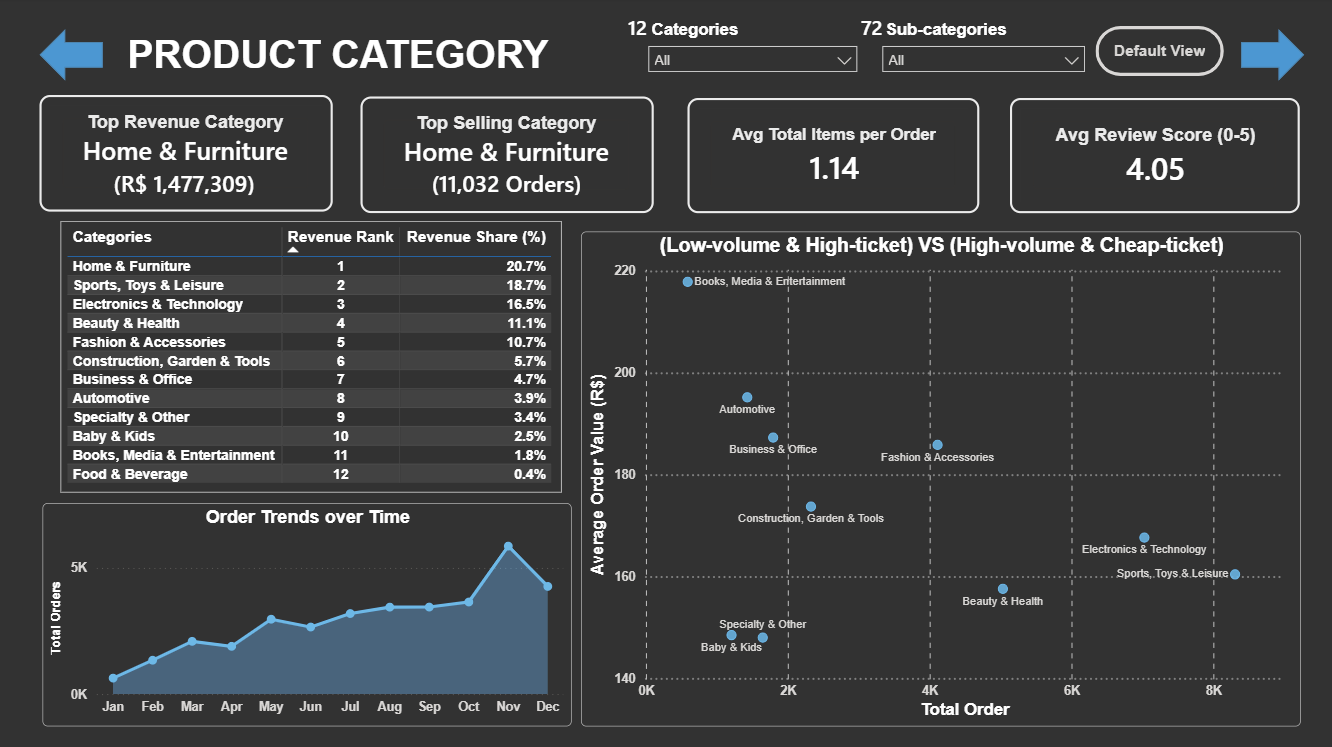

This screenshot's page, from the dashboard's own definition file:
{"tool":"powerbi","page":{"name":"Product Category","canvas":[1280,720],"ordinal":1},"visuals":[{"type":"cardVisual","fields":{"Data":["all_measures.Average Review Score"]},"box":[968.7,97,276.8,109.8],"z":0},{"type":"actionButton","box":[1049.8,28.6,122.5,47.7],"z":1000},{"type":"textbox","box":[120.9,28.6,494.7,63.6],"z":2000},{"type":"cardVisual","fields":{"Data":["all_measures.Top Selling Category Name"]},"box":[348.3,95.4,279.9,111.3],"z":3000},{"type":"cardVisual","fields":{"Data":["public dim_product.Top Selling Category"]},"box":[332.4,82.7,310.2,109.8],"z":4000},{"type":"cardVisual","fields":{"Data":["public dim_product.Top Selling Category Value"]},"box":[348.4,145.8,279.9,61.2],"z":5000},{"type":"areaChart","title":"Order Trends over Time","fields":{"Category":["public dim_date.month_short"],"Y":["all_measures.Total Orders"]},"box":[44.4,484.1,505.6,213.4],"z":6000},{"type":"tableEx","fields":{"Values":["public dim_product.macro_category","public dim_product.Macro Category Rank (Revenue)","public fact_sales.Macro Categories Revenue Share (%)"]},"box":[61.6,214.9,478.4,259.3],"z":7000},{"type":"slicer","fields":{"Values":["public dim_product.macro_category"]},"box":[612.4,17.5,219.5,70],"z":8000},{"type":"cardVisual","fields":{"Data":["all_measures.Total Categories"]},"box":[561.5,1.6,89.1,55.7],"z":9000},{"type":"scatterChart","title":"(Low-volume & High-ticket) VS (High-volume & Cheap-ticket)","fields":{"Category":["public dim_product.macro_category"],"X":["all_measures.Total Orders"],"Y":["all_measures.Average Order Value"]},"box":[558.6,224.9,687.5,472.7],"z":10000},{"type":"cardVisual","fields":{"Data":["all_measures.Average Items per Order"]},"box":[660.1,97,278.4,109.8],"z":11000},{"type":"cardVisual","fields":{"Data":["all_measures.Top Revenue Category Name"]},"box":[41.4,93.8,279.9,111.3],"z":12000},{"type":"cardVisual","fields":{"Data":["all_measures.Top Revenue Category Name"]},"box":[25.4,81.1,310.2,109.8],"z":13000},{"type":"cardVisual","fields":{"Data":["all_measures.Top Revenue Category Value"]},"box":[40.8,145.8,279.9,61.2],"z":14000},{"type":"slicer","fields":{"Values":["public dim_product.product_category"]},"box":[836.7,17.5,213.1,70],"z":17000},{"type":"cardVisual","fields":{"Data":["all_measures.Total Sub-categories"]},"box":[785.8,1.6,89.1,55.7],"z":18000},{"type":"shape","box":[41.4,31.8,60.4,49.3],"z":23000},{"type":"shape","box":[1188.2,31.8,60.4,49.3],"z":24000}]}

Visuals, with their boxes in screenshot pixels (x1, y1, x2, y2), scaled from the page's 1280x720 canvas onto the 1332x747 screenshot:
cardVisual - all_measures.Average Review Score: BBox(1008, 101, 1296, 215)
actionButton: BBox(1092, 30, 1220, 79)
textbox: BBox(126, 30, 641, 96)
cardVisual - all_measures.Top Selling Category Name: BBox(362, 99, 654, 214)
cardVisual - public dim_product.Top Selling Category: BBox(346, 86, 669, 200)
cardVisual - public dim_product.Top Selling Category Value: BBox(363, 151, 654, 215)
"Order Trends over Time" areaChart: BBox(46, 502, 572, 724)
tableEx - public dim_product.macro_category x public dim_product.Macro Category Rank (Revenue): BBox(64, 223, 562, 492)
slicer - public dim_product.macro_category: BBox(637, 18, 866, 91)
cardVisual - all_measures.Total Categories: BBox(584, 2, 677, 59)
"(Low-volume & High-ticket) VS (High-volume & Cheap-ticket)" scatterChart: BBox(581, 233, 1297, 724)
cardVisual - all_measures.Average Items per Order: BBox(687, 101, 977, 215)
cardVisual - all_measures.Top Revenue Category Name: BBox(43, 97, 334, 213)
cardVisual - all_measures.Top Revenue Category Name: BBox(26, 84, 349, 198)
cardVisual - all_measures.Top Revenue Category Value: BBox(42, 151, 334, 215)
slicer - public dim_product.product_category: BBox(871, 18, 1092, 91)
cardVisual - all_measures.Total Sub-categories: BBox(818, 2, 910, 59)
shape: BBox(43, 33, 106, 84)
shape: BBox(1236, 33, 1299, 84)
